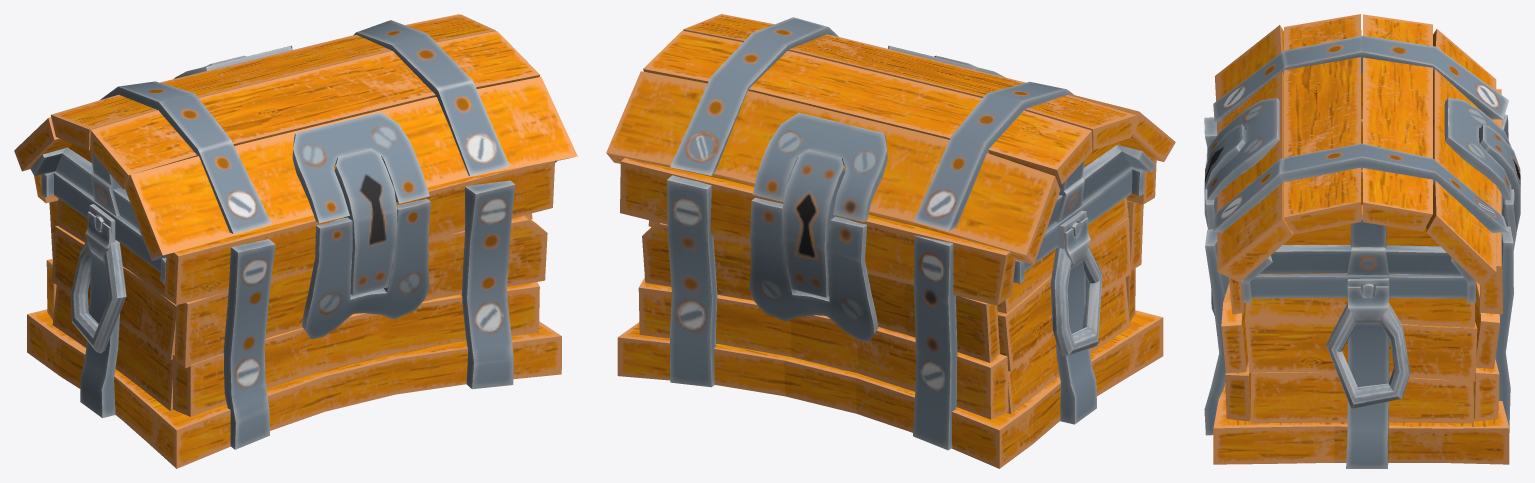
File: Golden_Chest_Light.glb
The picture shows the model from 3 angles, left to right: view 1: azimuth 30°, elevation 25°; view 2: azimuth 150°, elevation 25°; view 3: azimuth 270°, elevation 25°; orthographic projection. The views are drawn at different scales.
Visible parts, largest first — view 1: chest_01, chest_02; view 2: chest_01, chest_02; view 3: chest_01, chest_02.
Part boxes in pixels (x1,y1,x2,y2): chest_01: [14, 14, 577, 468]; chest_02: [30, 20, 556, 449]; chest_01: [606, 14, 1175, 468]; chest_02: [667, 17, 1155, 450]; chest_01: [1213, 14, 1509, 464]; chest_02: [1204, 35, 1520, 468].
Bounding box in the file's own units: 0.8438 × 0.5754 × 0.5851.
Materials: 1 (1 with a texture image).
